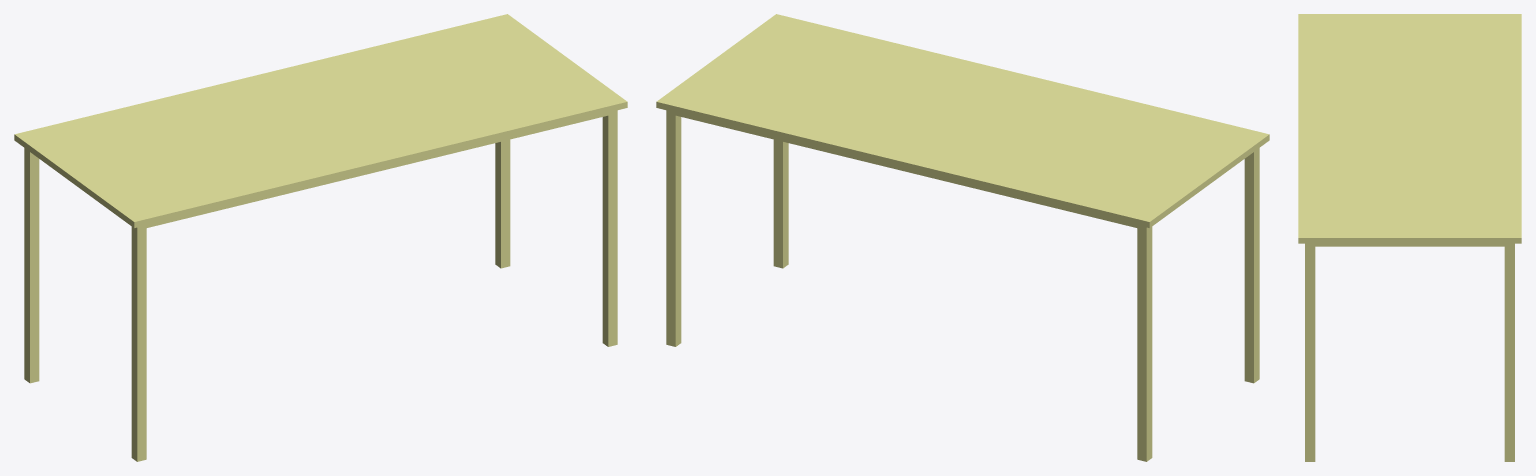
The model's file is Mesa.fbx.
3 renders of one model, left to right at view 1: azimuth 30°, elevation 25°; view 2: azimuth 150°, elevation 25°; view 3: azimuth 270°, elevation 25°, orthographic. The views are drawn at different scales.
Visible parts, largest first — view 1: Mesa; view 2: Mesa; view 3: Mesa.
Part boxes in pixels (x1,y1,x2,y2): Mesa: [14, 14, 627, 461]; Mesa: [656, 14, 1269, 461]; Mesa: [1298, 14, 1521, 461].
Size of the model in its own units: 1.9 by 0.8982 by 0.8.
